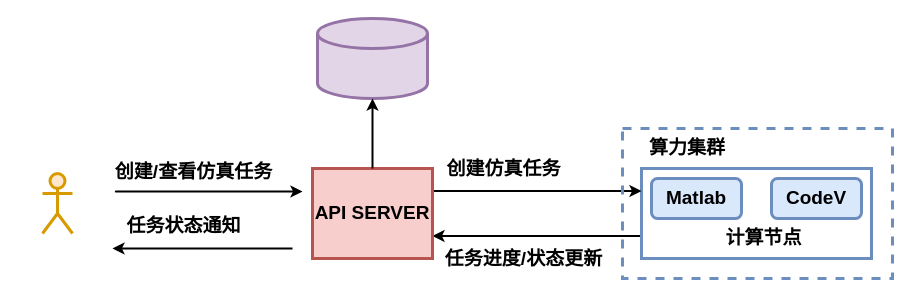
Some shapes in this 911 by 297 pixel diagram are drawn without their labels. Each missing label, with the centre of its shape:
MySQL: the point at 372,58
研发/工程: the point at 57,203
